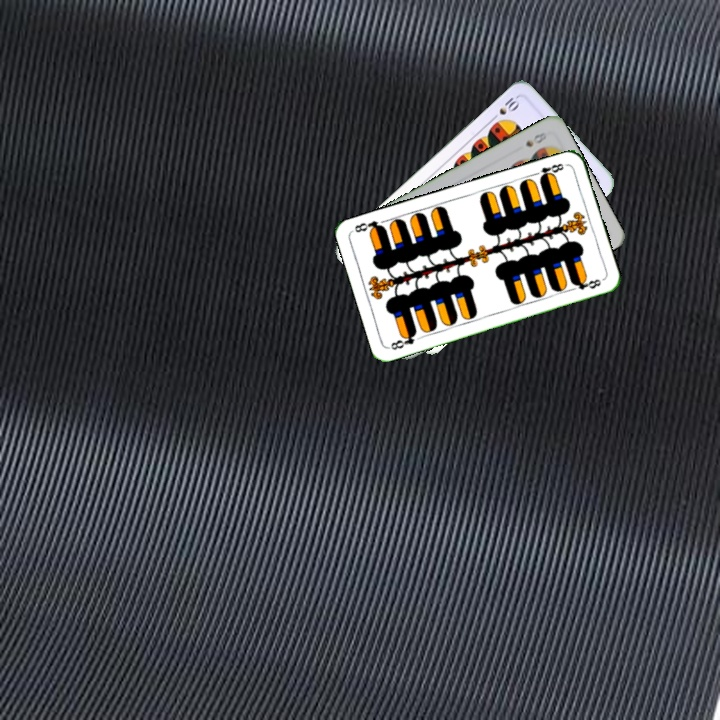E8: (529, 159, 569, 183), (386, 327, 419, 352)
S10: (487, 93, 522, 124)
S8: (521, 128, 549, 150)
